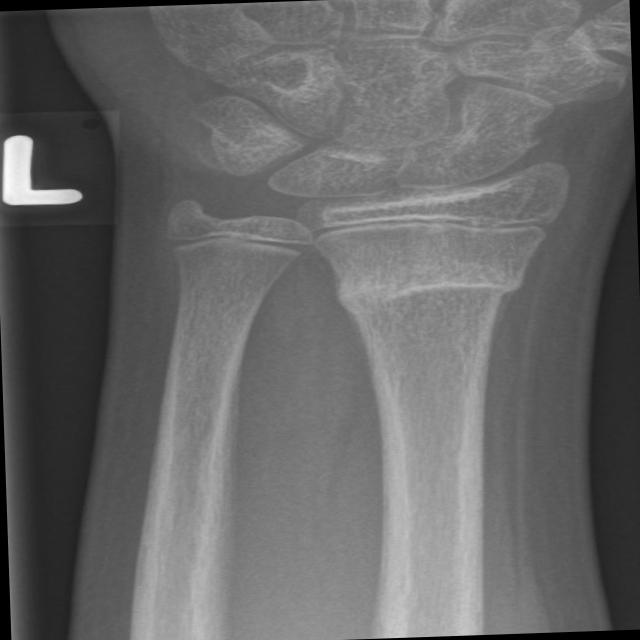fracture: (300, 187, 565, 255), (314, 262, 564, 324), (142, 206, 334, 274)
